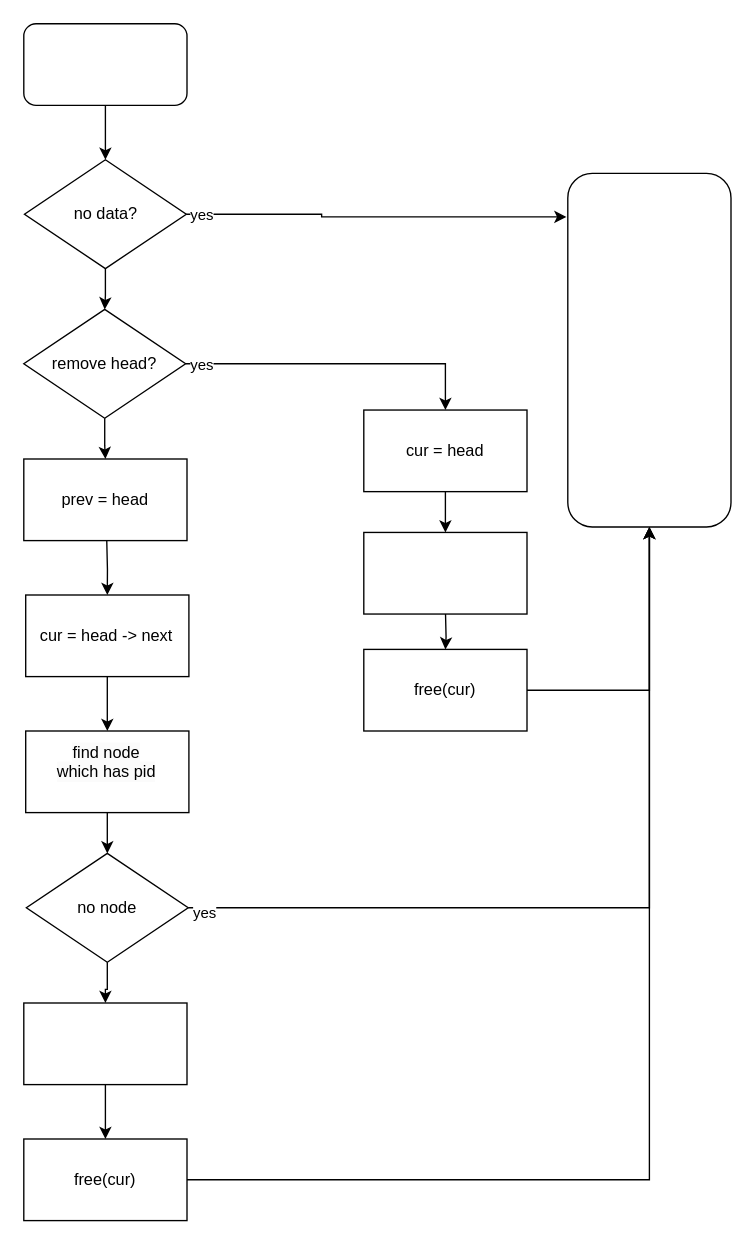
The diagram is 755 pixels wide and 1244 high, and some of its shapes have lost their labels. Here are the shapes that lost their labels. From the top down, the centre of each, then its label:
the point at 104,63: start
the point at 648,349: end
the point at 444,572: head = head -> next
the point at 104,1043: prev->next = cur -> next
